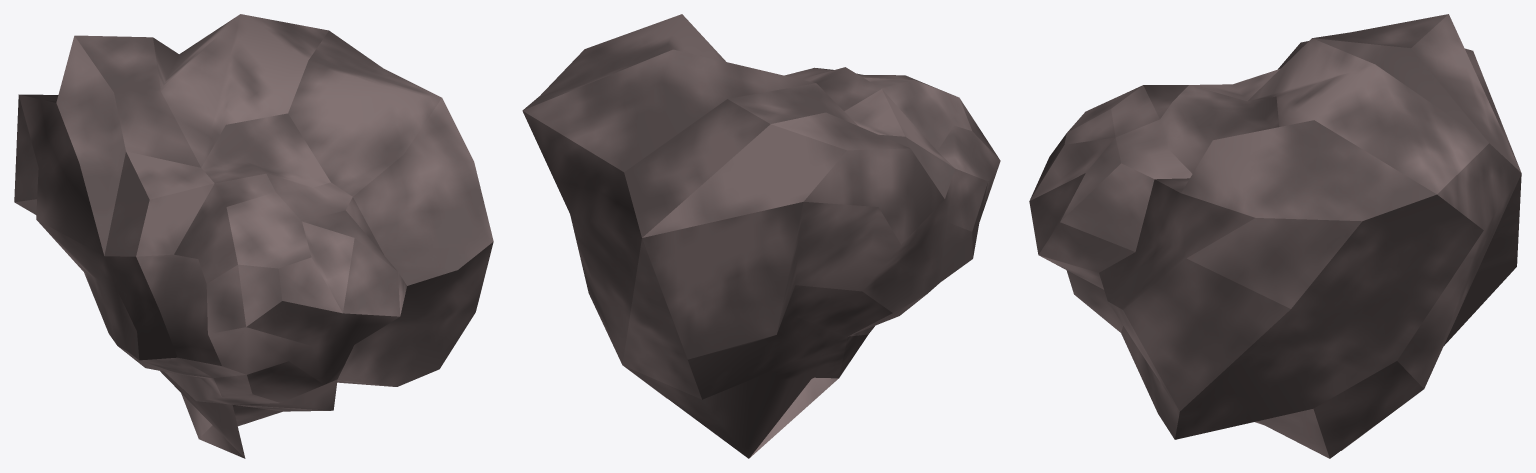
Rendered from MeteorBig.fbx.
The picture shows the model from 3 angles, left to right: view 1: azimuth 30°, elevation 25°; view 2: azimuth 150°, elevation 25°; view 3: azimuth 270°, elevation 25°; orthographic projection. The views are drawn at different scales.
Parts seen in each view (by area): view 1: pasted__pasted__pCube1; view 2: pasted__pasted__pCube1; view 3: pasted__pasted__pCube1.
Boxes of the visible parts, x1,y1,x2,y2 form: pasted__pasted__pCube1: [14, 14, 493, 458]; pasted__pasted__pCube1: [522, 14, 1000, 458]; pasted__pasted__pCube1: [1029, 14, 1521, 458].
Bounding box in the file's own units: 4.64 × 4.8 × 5.15.
